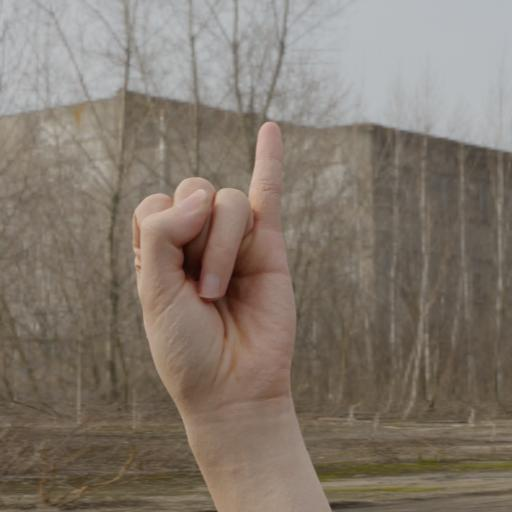I: (109, 108, 332, 424)
